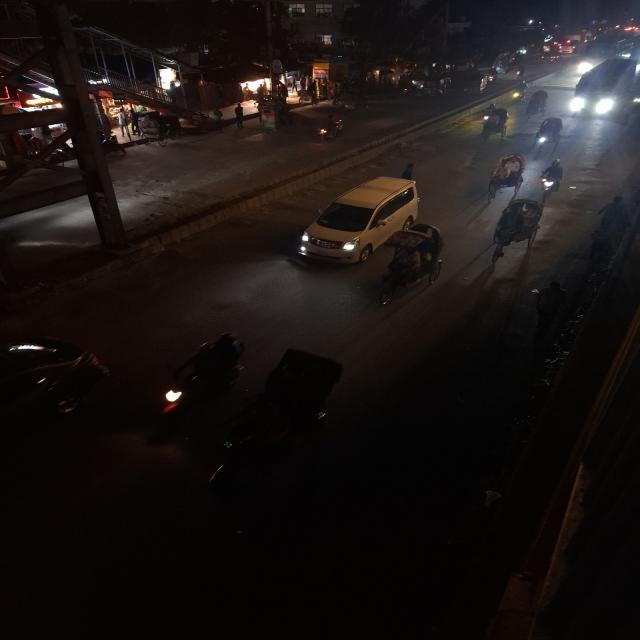bus: (568, 56, 636, 120), (577, 34, 634, 66)
car: (288, 162, 426, 266)
motorcycle: (146, 328, 250, 431), (536, 157, 565, 196), (316, 115, 348, 142)
rickshaw: (374, 220, 448, 310), (487, 196, 546, 264), (483, 151, 528, 201), (475, 104, 512, 142), (530, 115, 566, 153), (520, 88, 550, 119), (253, 104, 288, 129), (330, 96, 360, 112)
